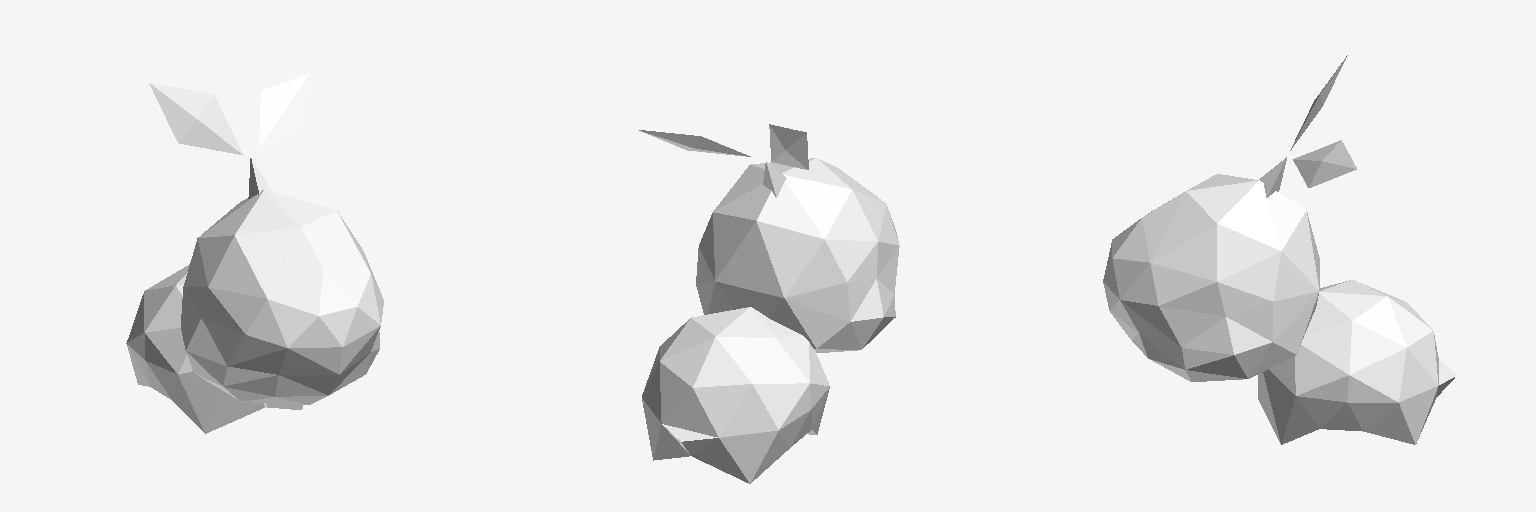
File: Turtwig.obj
The picture shows the model from 3 angles: view 1: azimuth 30°, elevation 25°; view 2: azimuth 150°, elevation 25°; view 3: azimuth 270°, elevation 25°; orthographic projection.
Parts seen in each view (by area): view 1: merged_1_0_node, merged_0_0_node, merged_4_0_node, merged_3_0_node, merged_2_0_node; view 2: merged_1_0_node, merged_3_0_node, merged_0_0_node, merged_2_0_node, merged_4_0_node; view 3: merged_1_0_node, merged_3_0_node, merged_0_0_node, merged_2_0_node, merged_4_0_node.
Part boxes in pixels (x1,y1,x2,y2): merged_1_0_node: (149,73,370,298); merged_0_0_node: (181,269,380,404); merged_4_0_node: (202,253,383,374); merged_3_0_node: (126,264,192,374); merged_2_0_node: (127,345,302,433); merged_1_0_node: (639,124,885,297); merged_3_0_node: (642,307,829,437); merged_0_0_node: (696,178,895,352); merged_2_0_node: (642,387,829,483); merged_4_0_node: (877,204,899,294); merged_1_0_node: (1142,55,1356,301); merged_3_0_node: (1269,280,1438,402); merged_0_0_node: (1103,218,1318,381); merged_2_0_node: (1258,359,1456,444); merged_4_0_node: (1120,263,1225,347).
Bounding box in the file's own units: 0.3757 × 0.6415 × 0.6184.